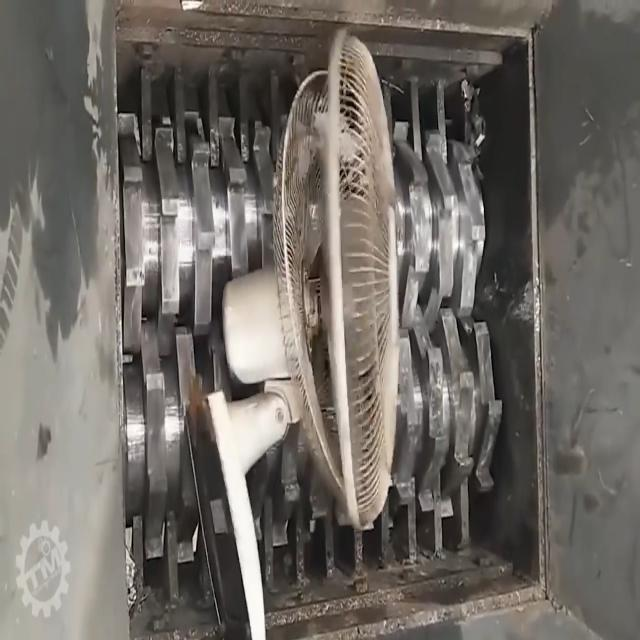Broyeur: (102, 0, 563, 640)
